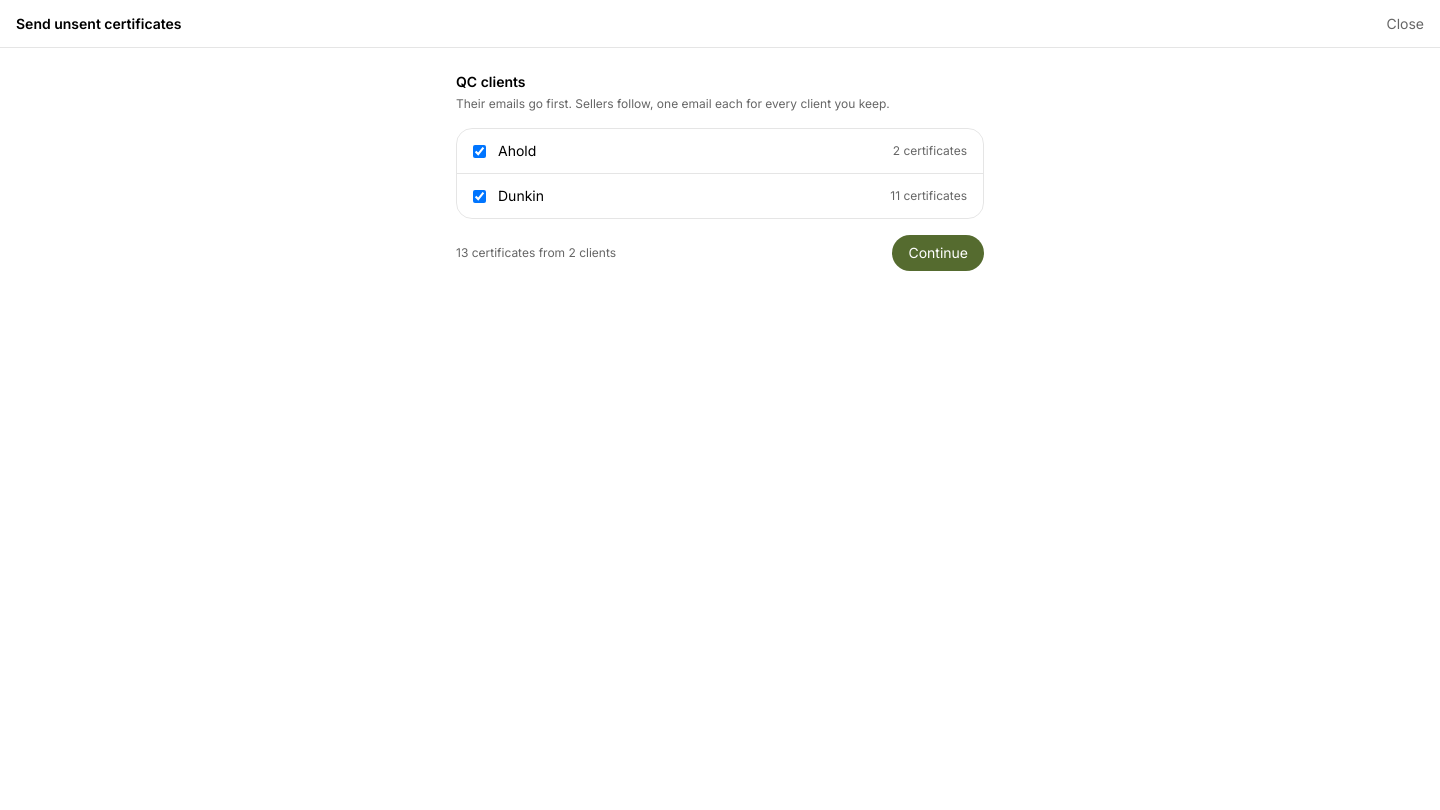
it: BatchApprovalSendView — choosing QC clients › asks which QC clients to send to, all ticked, and builds the emails for the ones kept
Check: the checkbox labelled "Ahold 2 certificates" is checked, box [473, 144, 486, 158]
What coordinates should you click on to do the following:
click the checkbox labelled "Dunkin 11 certificates"
I would click on:
 (480, 196)
Its box is [473, 190, 486, 202].
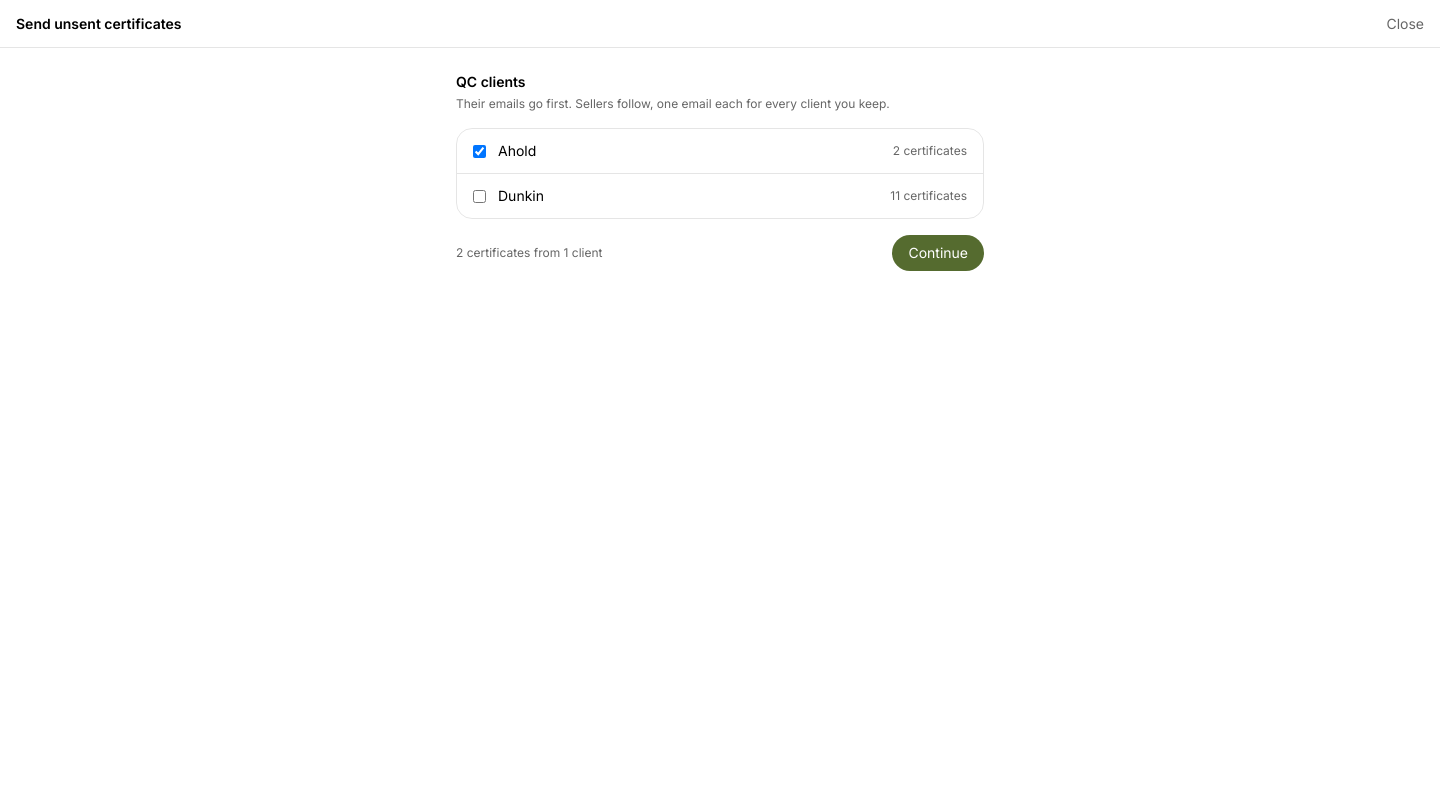
What coordinates should you click on to do the following:
click the button "Continue"
I would click on:
 (938, 253)
Its box is [892, 235, 984, 271].
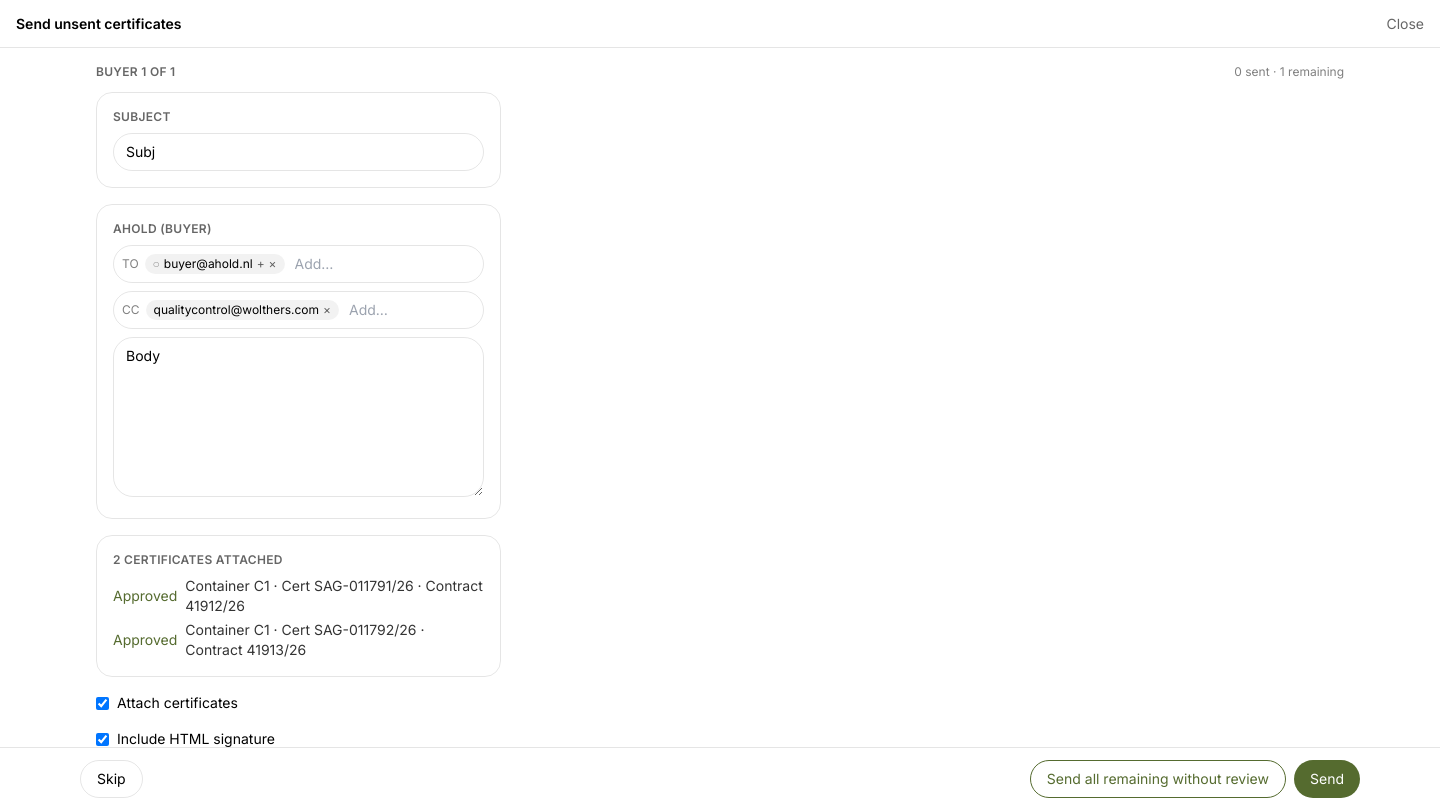
Check: the field labelled "Subject" is shown, box [113, 133, 484, 171]
